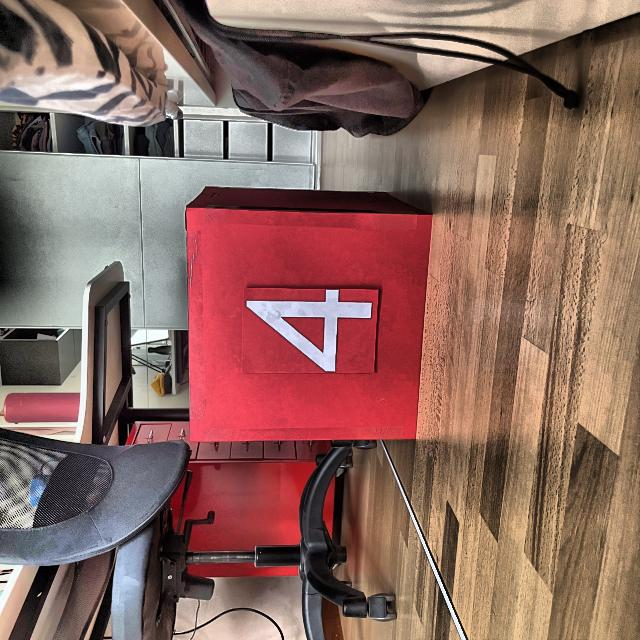four: (244, 287, 376, 374)
red box: (181, 182, 436, 446)
